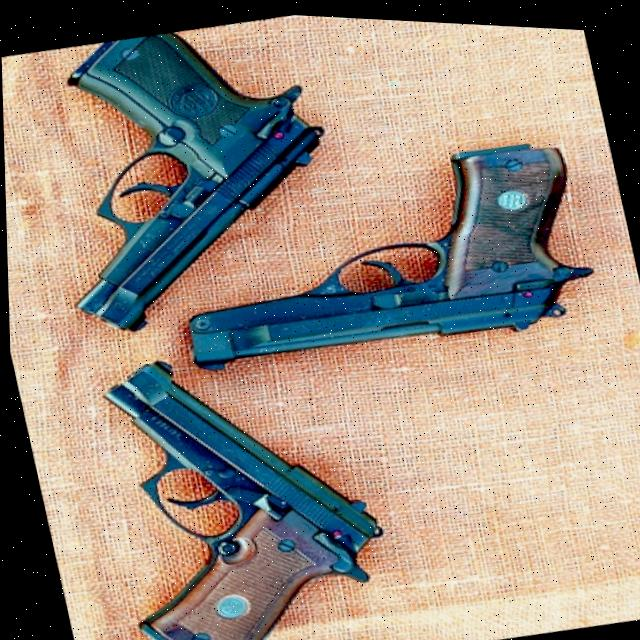pistol: (154, 114, 603, 389), (17, 1, 363, 348), (81, 320, 406, 640)
